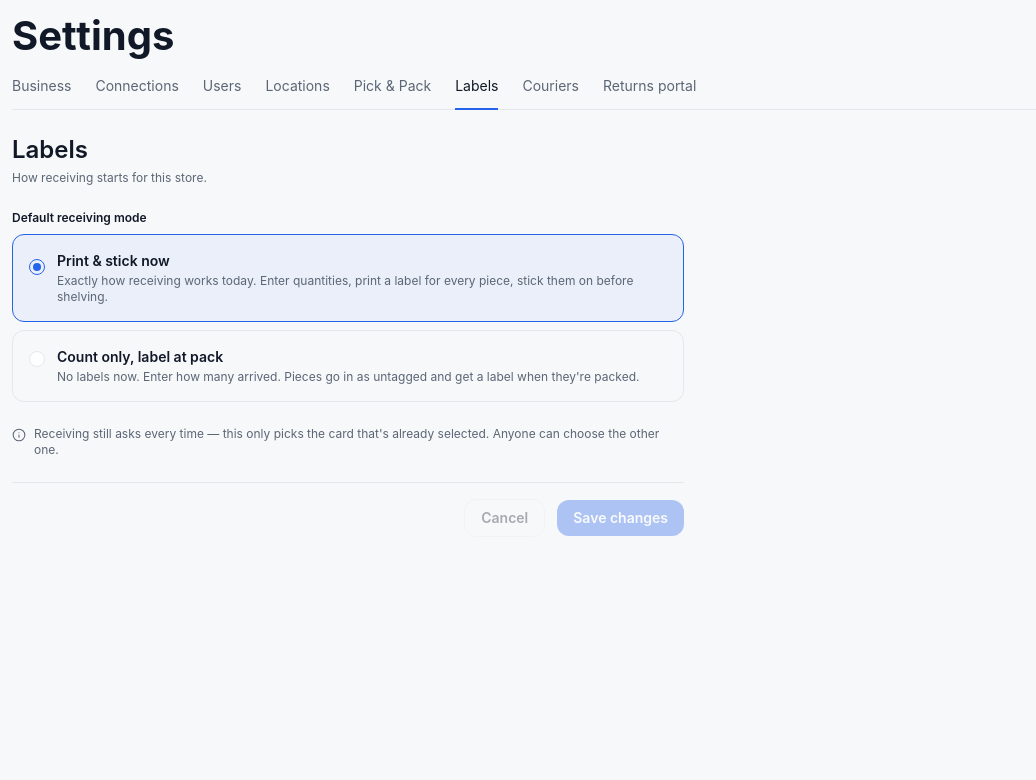
Test: Slice 8 — Settings › Labels › sl2 — a manager can change it too
The image size is (1036, 780).
Click the radio button with test id "labels-mode-count_only": (348, 366) [12,330,684,402]
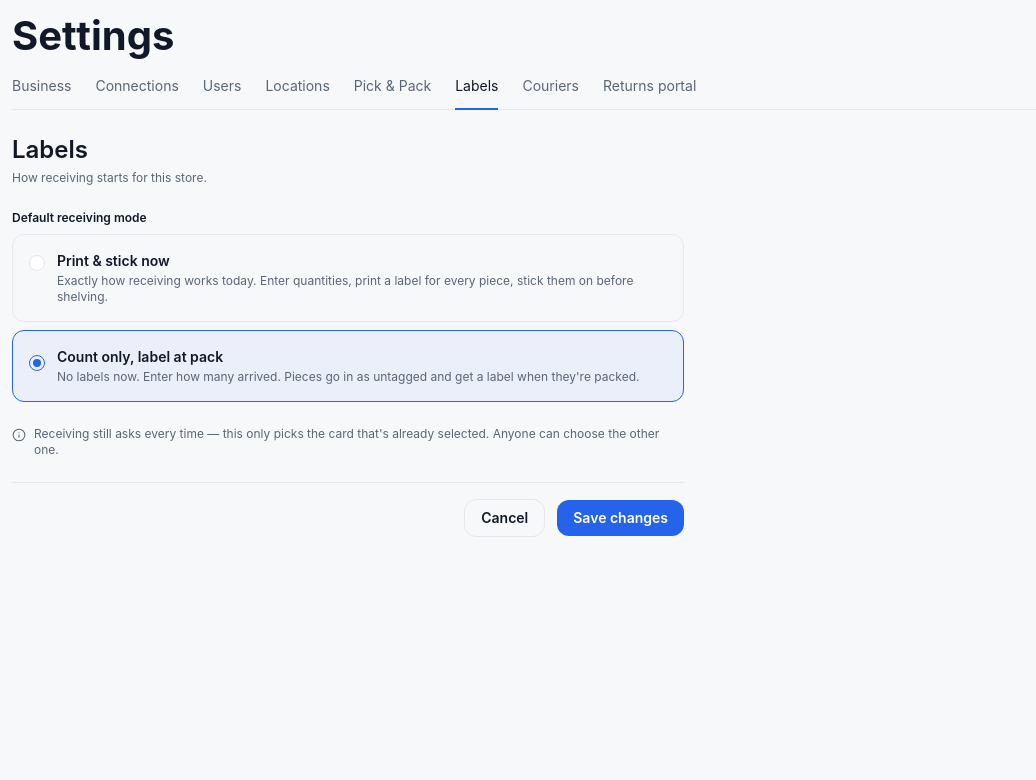
Expected: the button with test id "labels-save" is enabled, [557,500,684,536]
